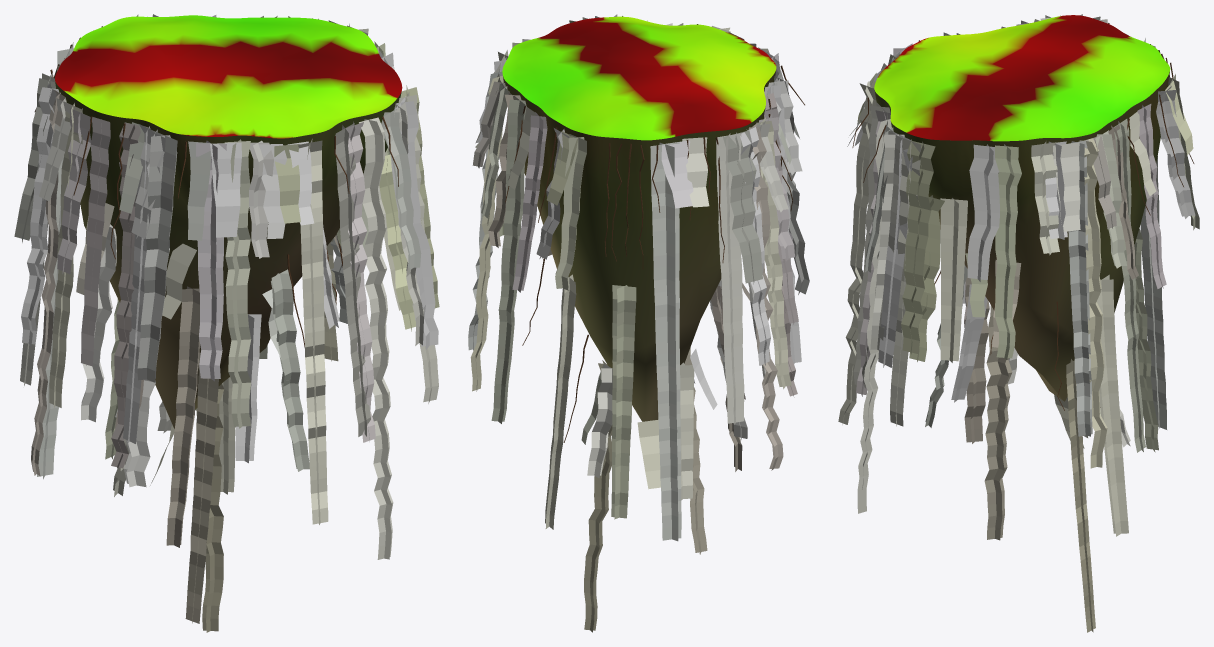
File: SM_H10_Floater05.fbx
3 views of the same model, side by side, from view 1: azimuth 30°, elevation 25°; view 2: azimuth 150°, elevation 25°; view 3: azimuth 270°, elevation 25° (orthographic). The views are drawn at different scales.
Parts seen in each view (by area): view 1: SM_H10_Floater05_Ivy, SM_H10_Floater05; view 2: SM_H10_Floater05_Ivy, SM_H10_Floater05; view 3: SM_H10_Floater05_Ivy, SM_H10_Floater05.
Part boxes in pixels (<box>): SM_H10_Floater05_Ivy: <box>14,14,439,632</box>; SM_H10_Floater05: <box>55,15,402,428</box>; SM_H10_Floater05_Ivy: <box>468,14,809,632</box>; SM_H10_Floater05: <box>502,16,776,421</box>; SM_H10_Floater05_Ivy: <box>838,14,1199,632</box>; SM_H10_Floater05: <box>874,15,1170,401</box>.
Size of the model in its own units: 24.82 by 41.26 by 24.45.
